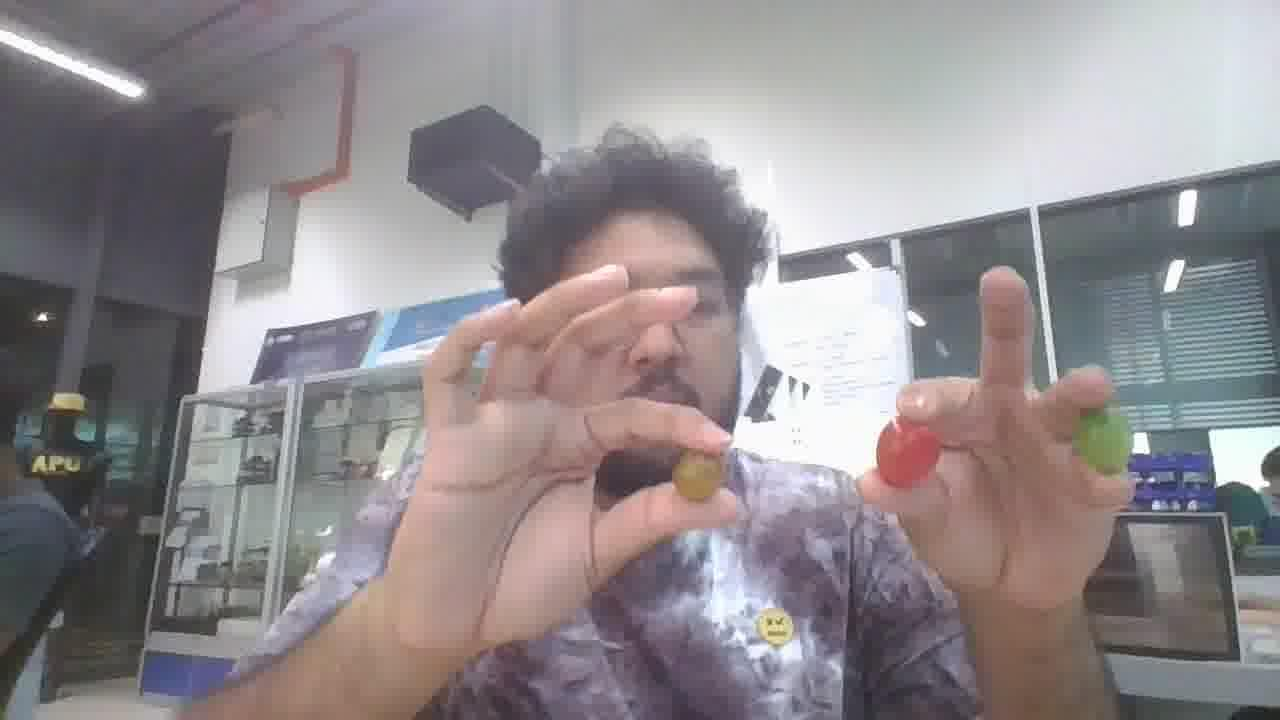green_cherry_tomato: (1073, 409, 1132, 473)
red_cherry_tomato: (876, 417, 940, 488)
yellow_cherry_tomato: (672, 451, 723, 501)
